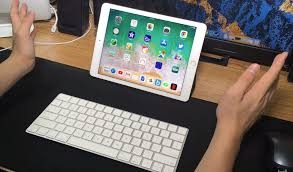keyboard: (21, 89, 189, 171)
